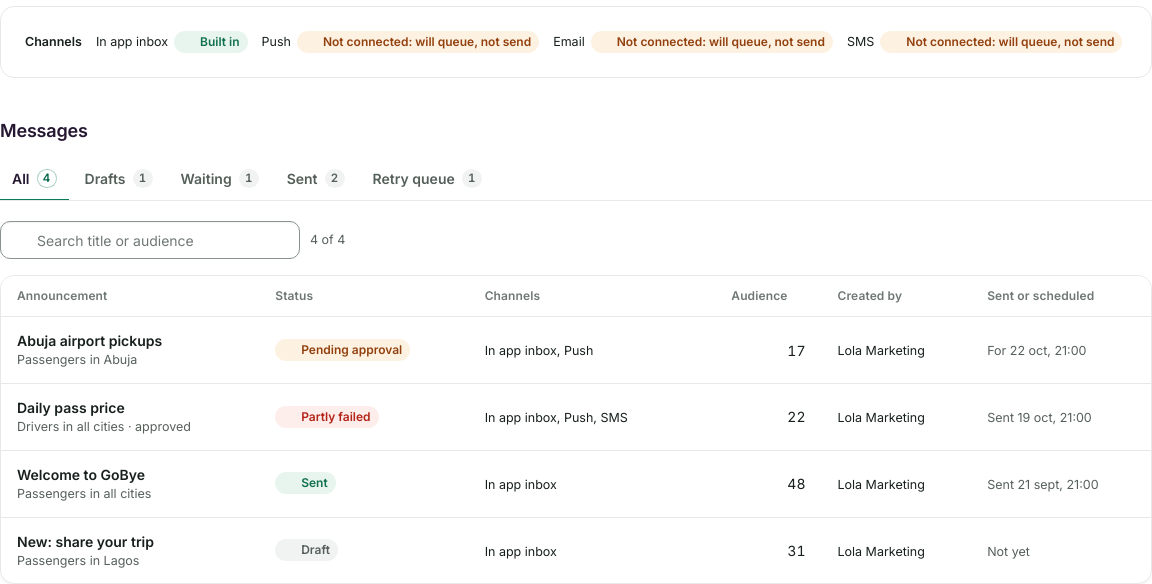
Test: flows › publishes a draft announcement: inbox records, snapshot and results
(page scrolled)
What coordinates should you click on to do the following:
click the text "New: share your trip"
I would click on:
 (86, 541)
Its box is [17, 532, 154, 550].
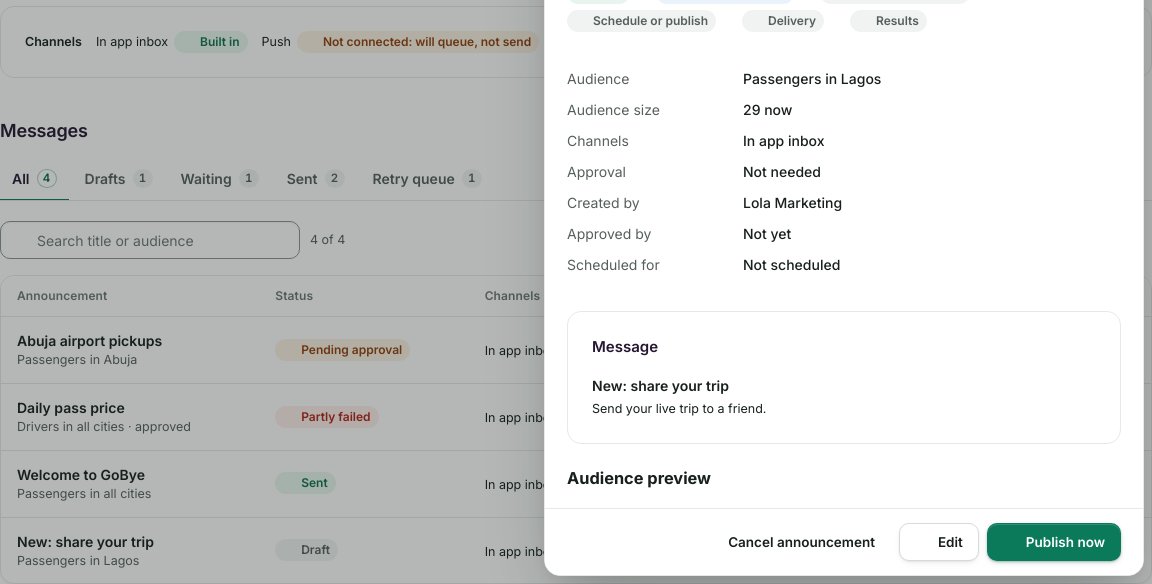
What coordinates should you click on to do the following:
click the button "Publish now"
I would click on:
 (1054, 542)
Its box is [987, 523, 1121, 561].
(page scrolled)
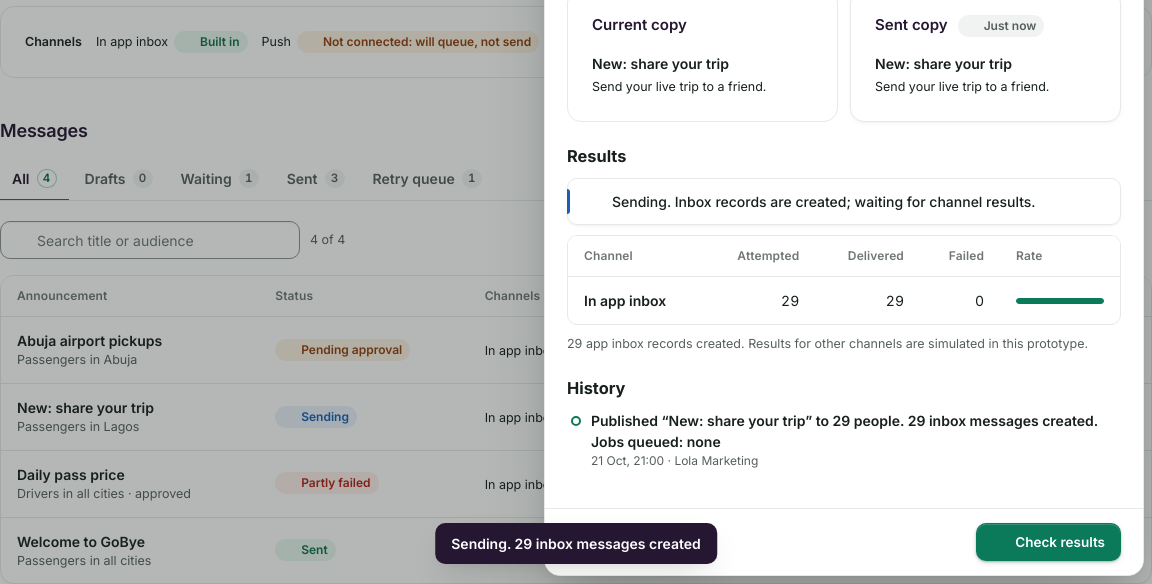
Expected: the text "Sent copy" is shown, [875, 14, 948, 37]
Expected: the text "app inbox records created" is shown, [582, 336, 1088, 351]
